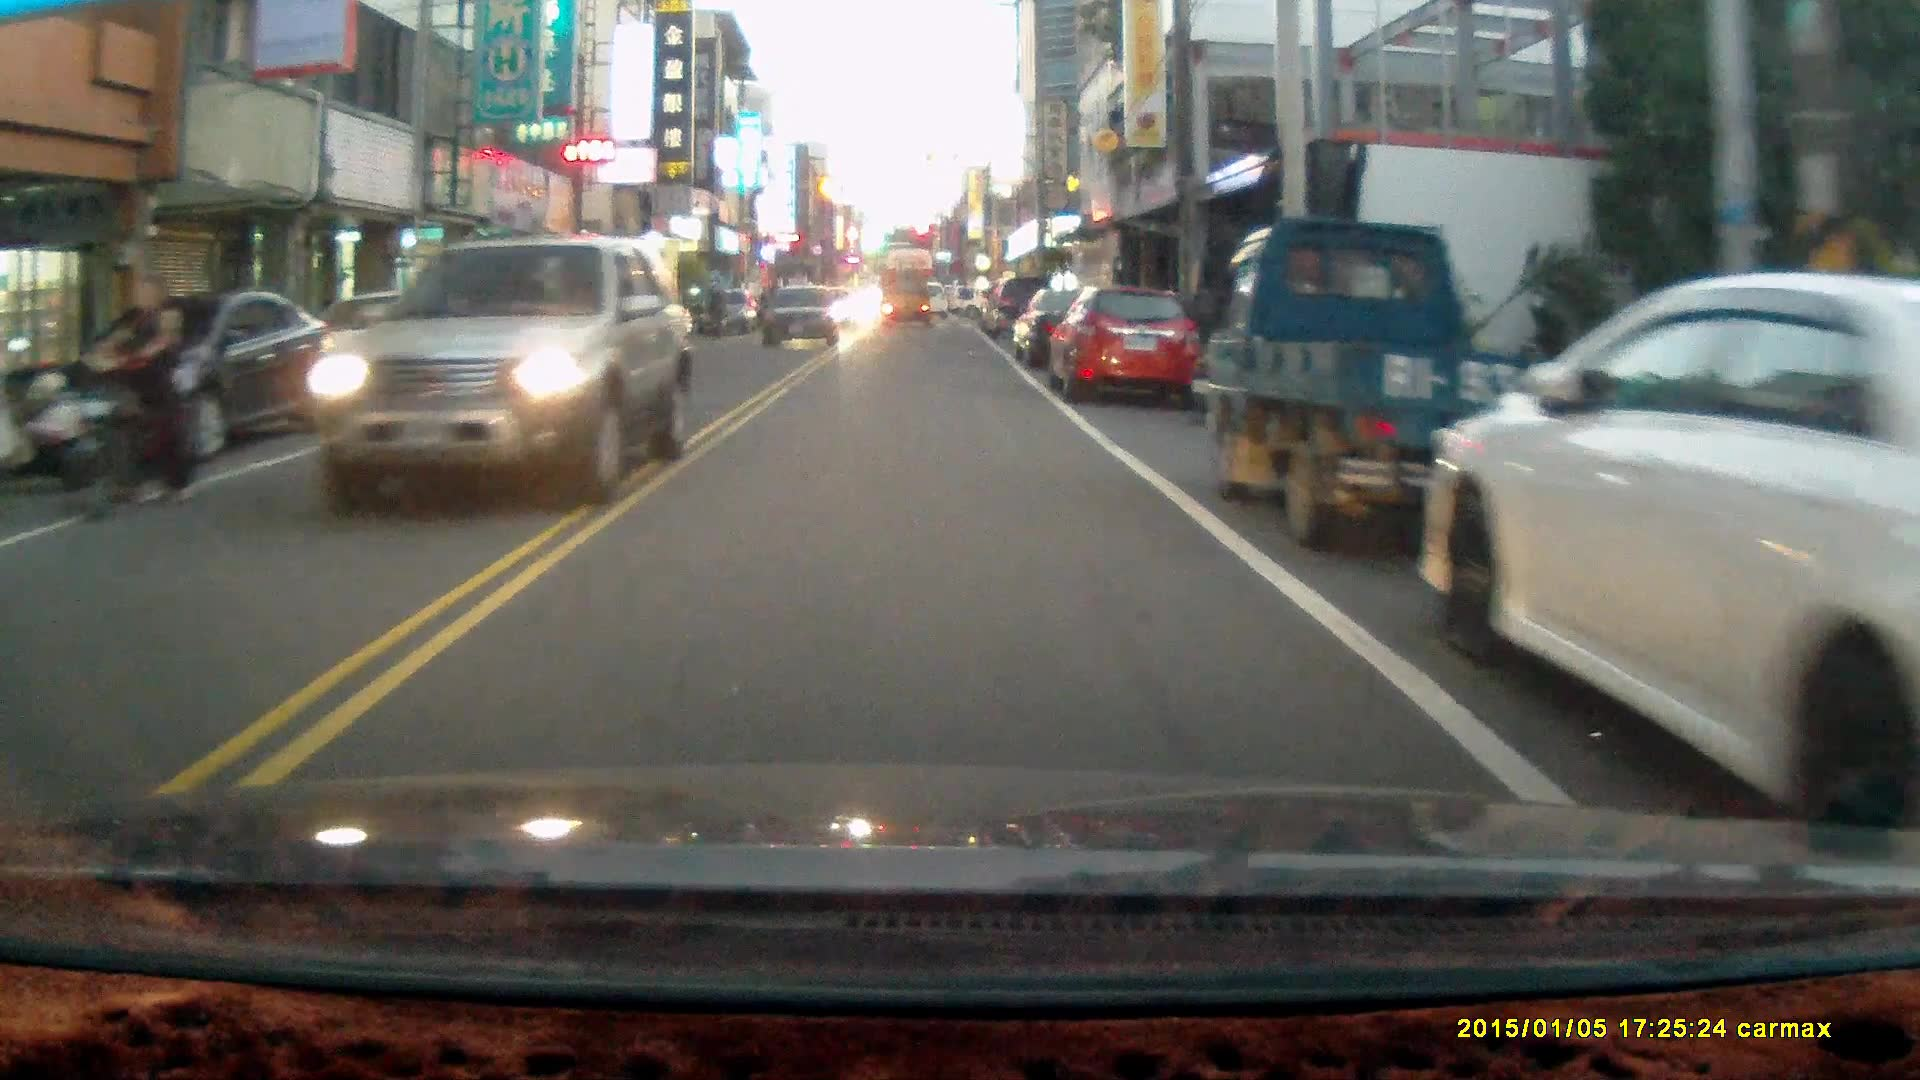pedestrian: (704, 278, 724, 340)
rider: (55, 266, 199, 520)
vehicle: (1419, 273, 1920, 877), (1205, 219, 1621, 560), (305, 239, 692, 513), (1052, 288, 1201, 407), (1007, 286, 1138, 379), (766, 285, 838, 353), (879, 275, 933, 332)
